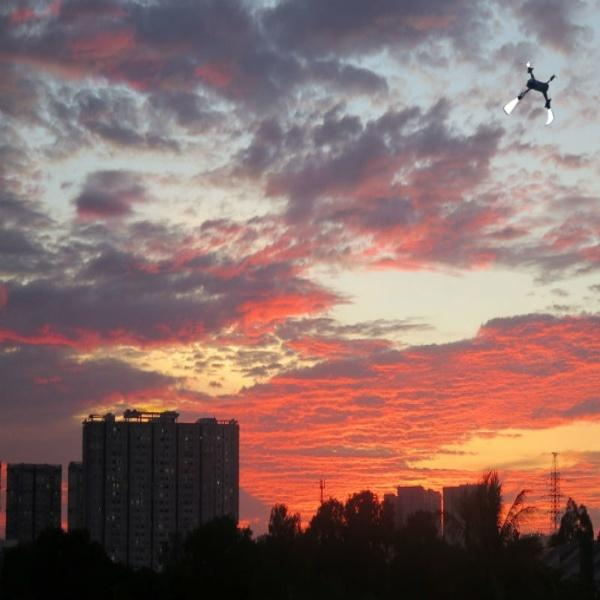drone: (503, 64, 570, 131)
